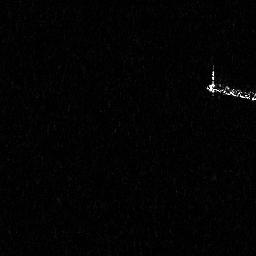ship: (205, 62, 256, 102)
